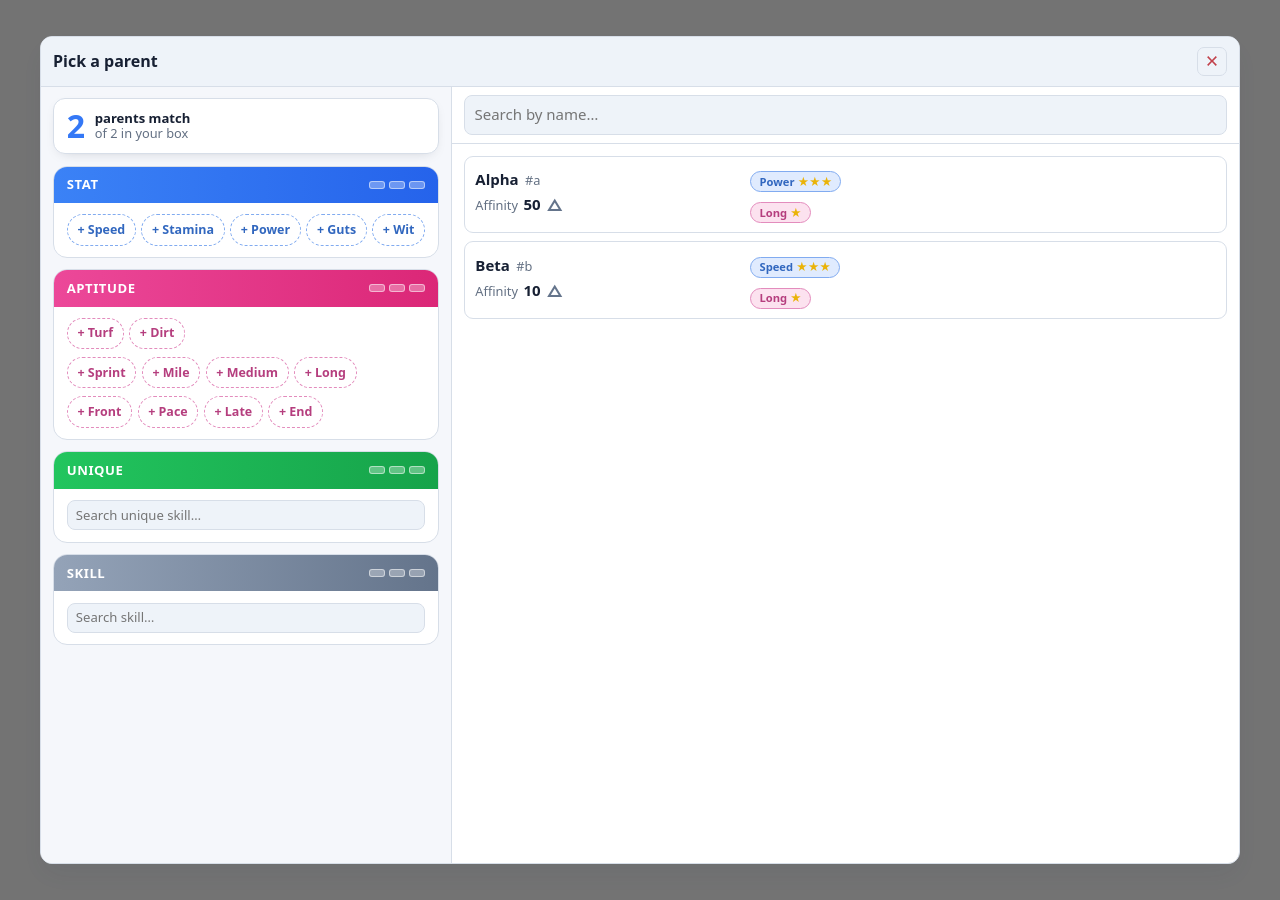
Scenario: UmaPickerModal › Reset all clears the filters
Click the button "+ Power": (265, 230) [230,214,301,246]
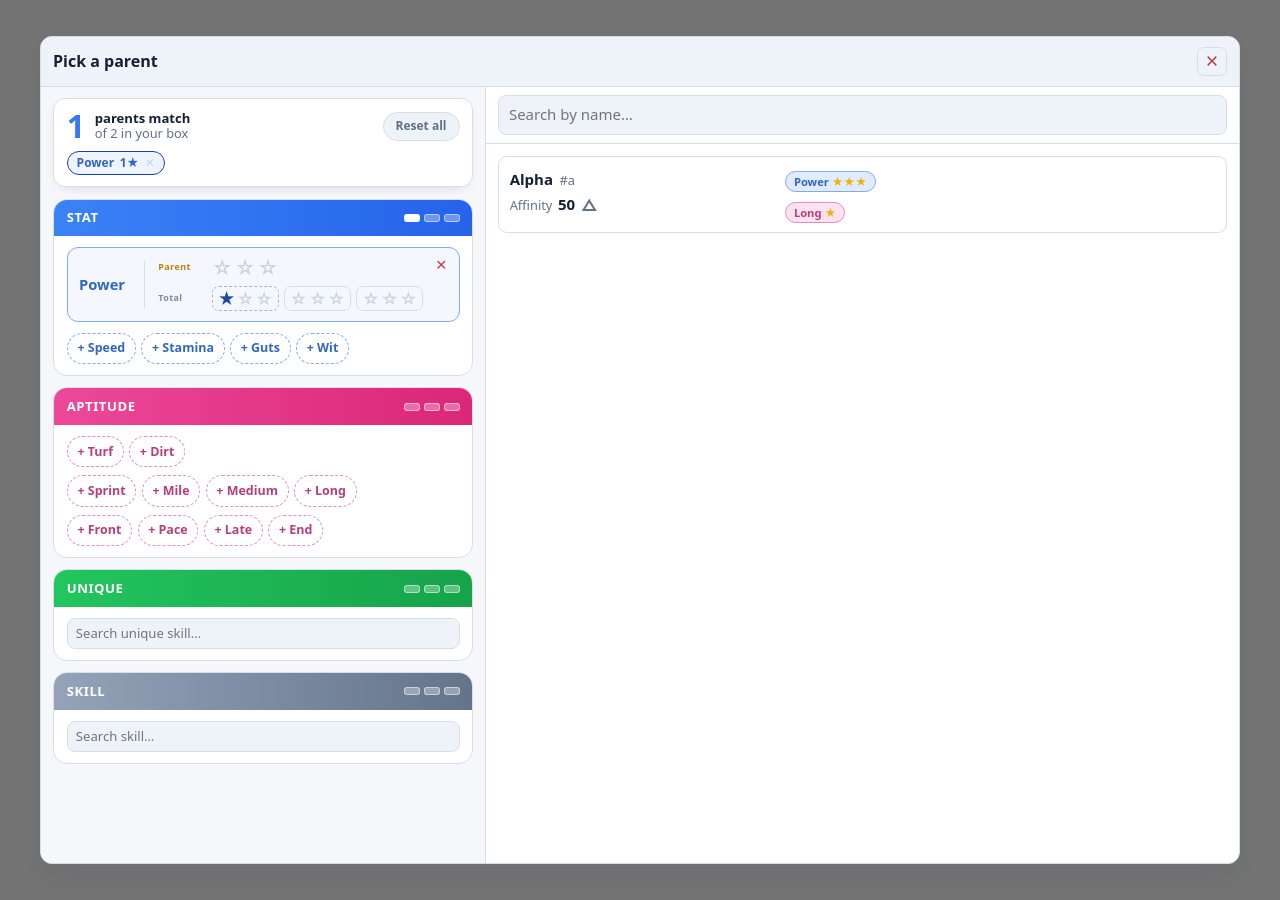
Expected: the button named "Power own 1" is shown, [212,258,233,278]
Click the button "Reset all": (421, 126) [382,112,460,141]
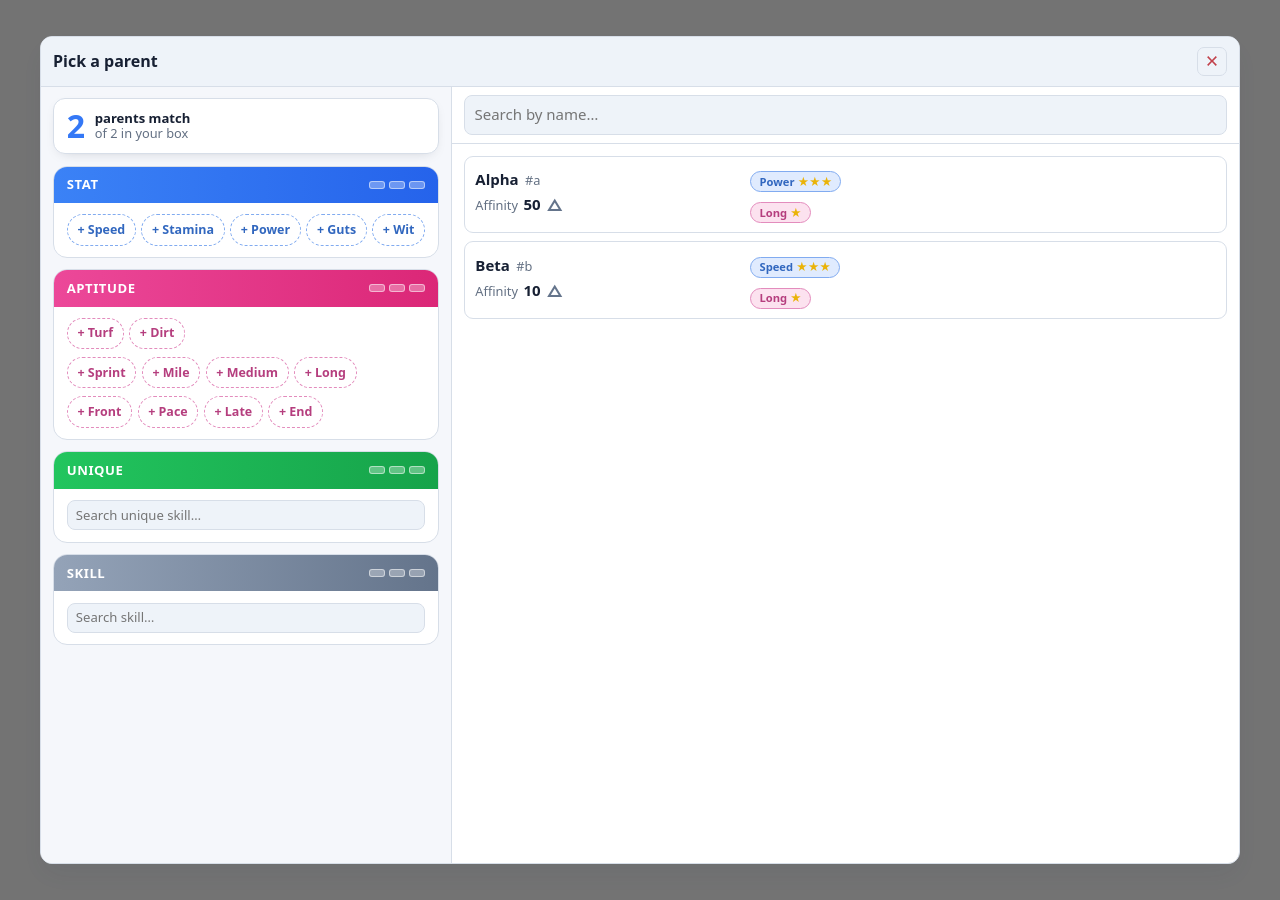
Expected: the button "+ Power" is shown, [230,214,301,246]
